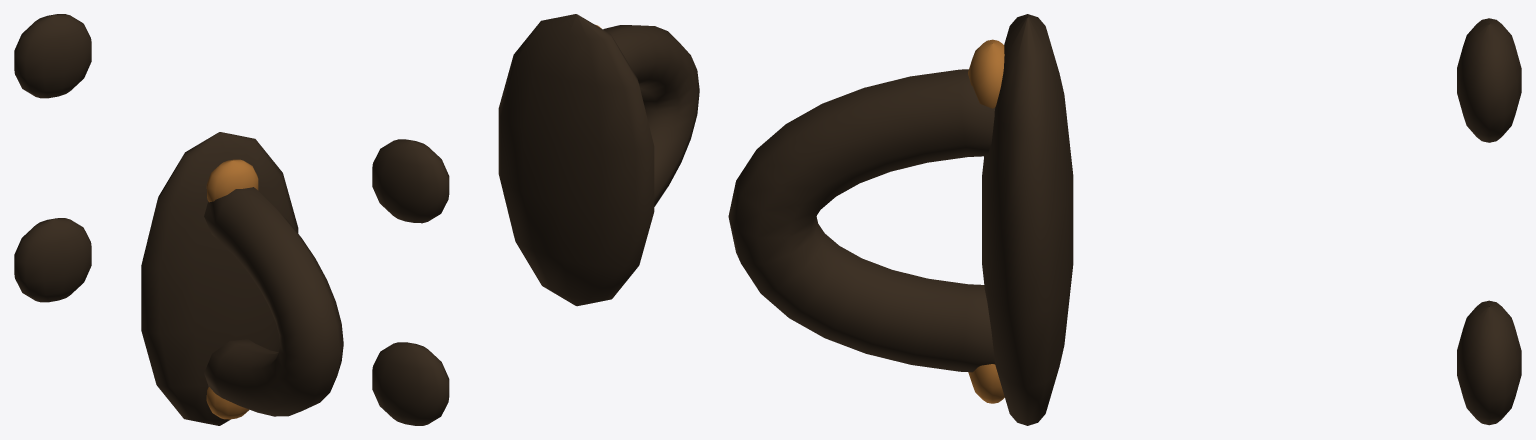
The model's file is snowbound_latch_keeper.obj.
The picture shows the model from 3 angles, left to right: view 1: azimuth 30°, elevation 25°; view 2: azimuth 150°, elevation 25°; view 3: azimuth 270°, elevation 25°; orthographic projection. The views are drawn at different scales.
Visible parts, largest first — view 1: snowbound_latch_keeper; view 2: snowbound_latch_keeper; view 3: snowbound_latch_keeper.
Boxes of the visible parts, x1=… form: snowbound_latch_keeper: x1=14, y1=14, x2=343, y2=425; snowbound_latch_keeper: x1=372, y1=14, x2=699, y2=425; snowbound_latch_keeper: x1=728, y1=14, x2=1521, y2=425.
Size of the model in its own units: 0.1288 by 0.23 by 0.4072.
